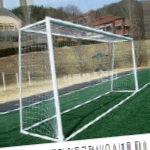goals: (16, 15, 139, 140)
